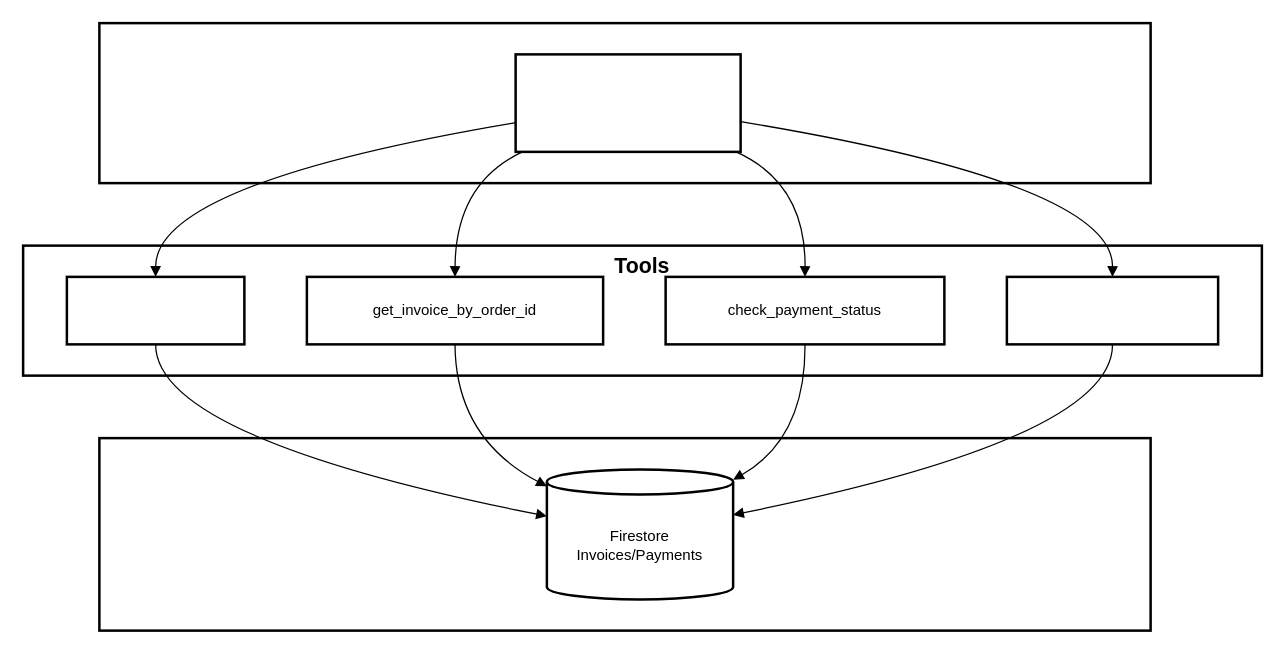
This 1284x653 diagram has some shape labels left out. Each missing label, with the centre of its shape:
"get_invoice" goes at [155,310].
"process_refund" goes at [1112,310].
"💳 Billing Agent Gemini 2.5 Flash" goes at [627,102].
